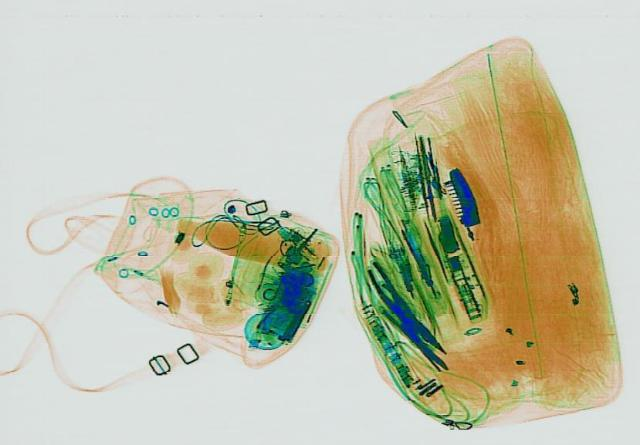Pliers: (356, 259, 426, 336)
